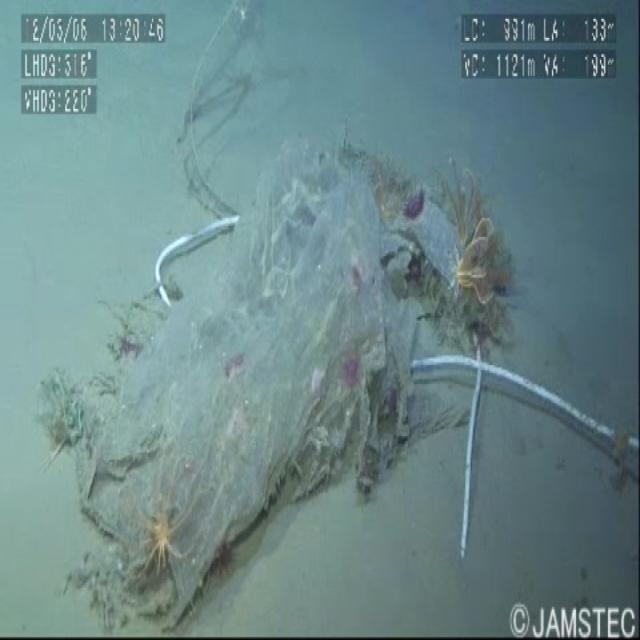Natual-Debris: (396, 160, 519, 349), (318, 125, 424, 263), (110, 484, 196, 594)
Rope: (68, 151, 511, 640)
Wood: (410, 348, 637, 462), (122, 212, 249, 325), (446, 299, 496, 567), (182, 0, 247, 195)
